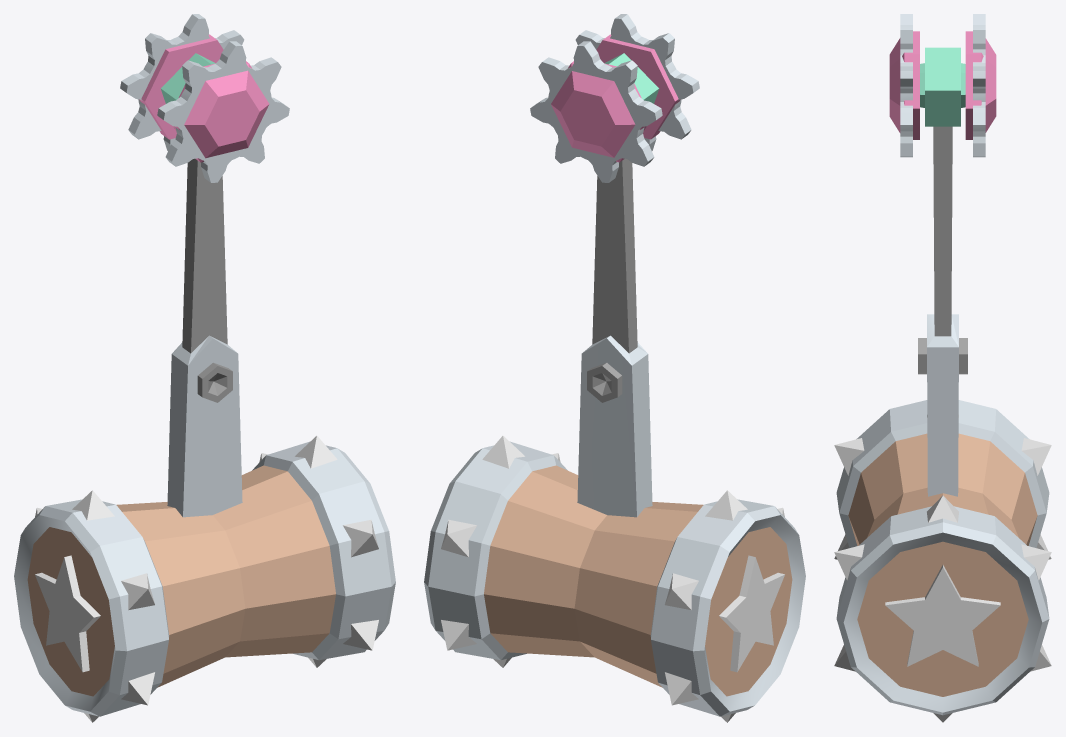
File: Hammer.fbx
3 views of the same model, side by side, from view 1: azimuth 30°, elevation 25°; view 2: azimuth 150°, elevation 25°; view 3: azimuth 270°, elevation 25° (orthographic). The views are drawn at different scales.
Visible parts, largest first — view 1: Props_7; view 2: Props_7; view 3: Props_7.
Boxes of the visible parts, <box> form: Props_7: <box>14,14,395,722</box>; Props_7: <box>424,14,805,722</box>; Props_7: <box>834,14,1051,722</box>.
Bounding box in the file's own units: 200 × 452 × 137.
